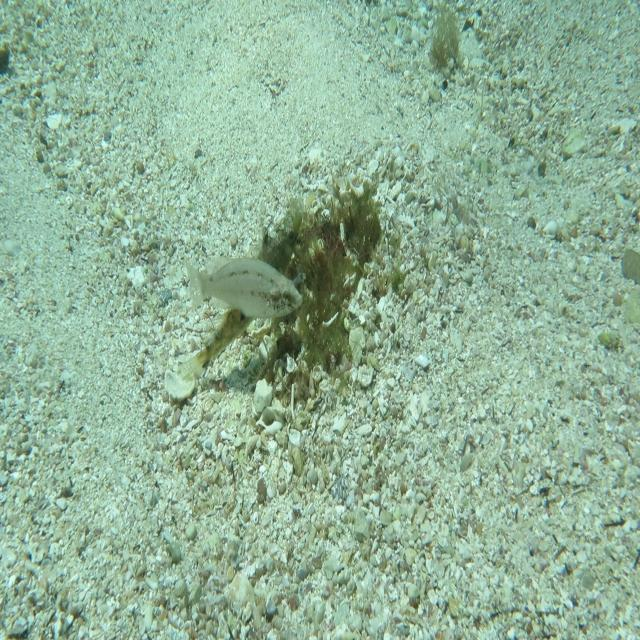FAN: (178, 204, 303, 380)
core_nest: (316, 198, 374, 255)
female: (184, 248, 304, 322)
nest: (263, 161, 407, 402)
